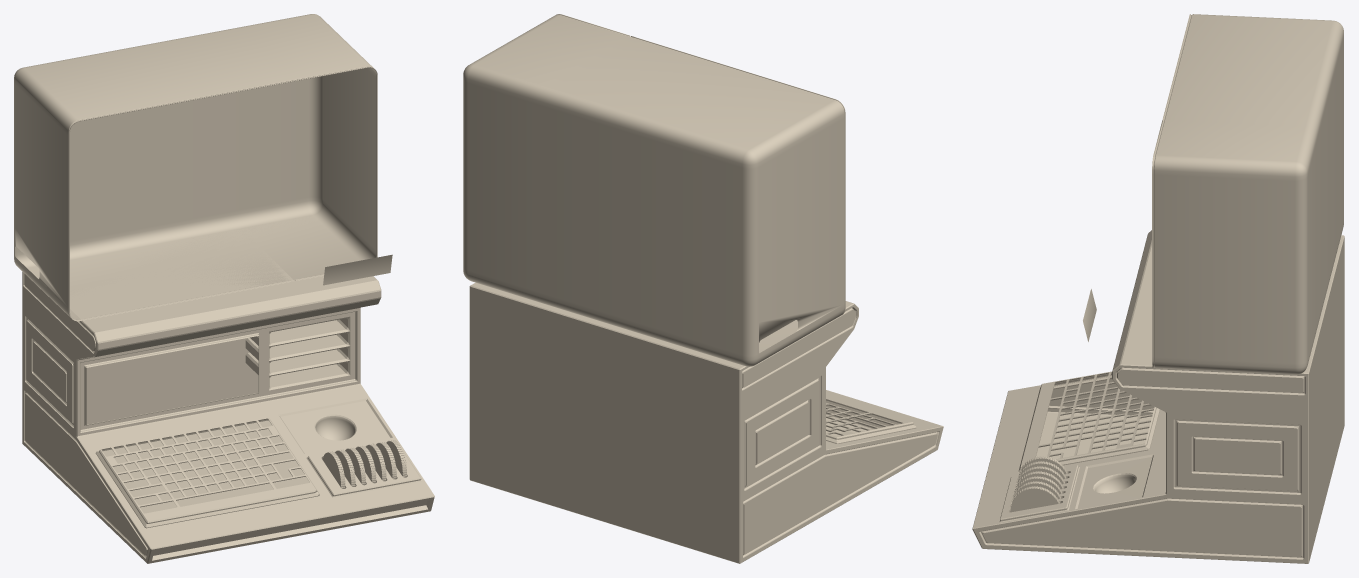
3 renders of one model, left to right at view 1: azimuth 30°, elevation 25°; view 2: azimuth 150°, elevation 25°; view 3: azimuth 270°, elevation 25°, orthographic. The views are drawn at different scales.
Parts seen in each view (by area): view 1: Object_8; view 2: Object_8; view 3: Object_8.
Part boxes in pixels (x1,y1,x2,y2): Object_8: (14, 14, 434, 563); Object_8: (463, 14, 943, 563); Object_8: (972, 14, 1344, 563).
Size of the model in its own units: 0.5804 by 0.6864 by 0.5745.
